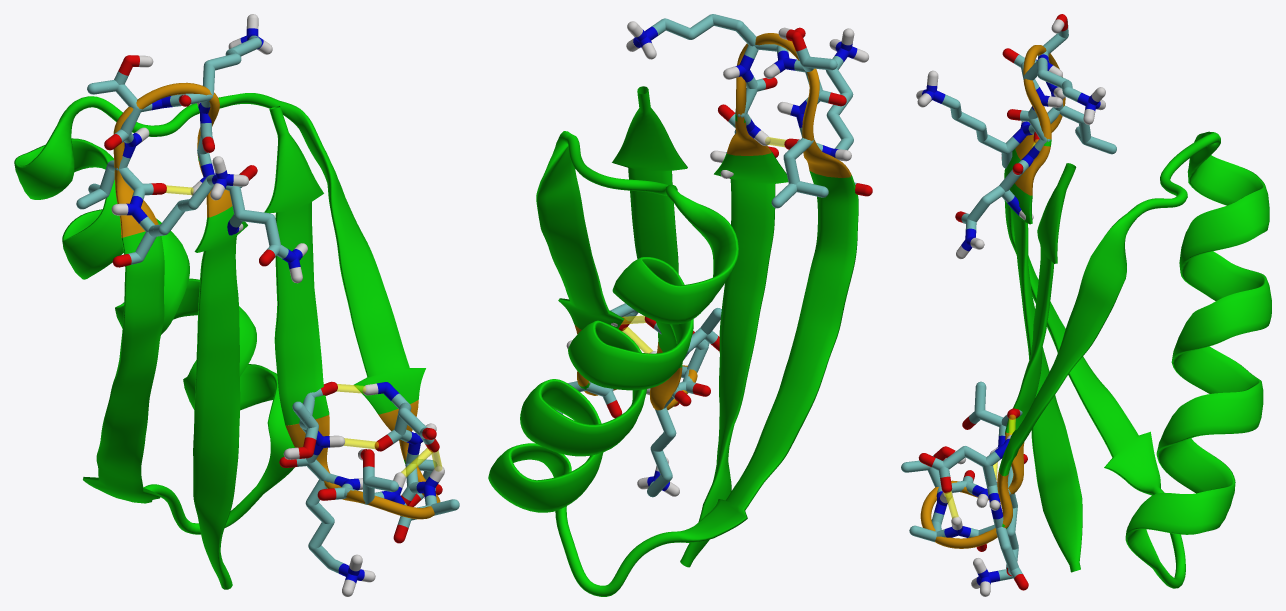
3 renders of one model, left to right at view 1: azimuth 30°, elevation 25°; view 2: azimuth 150°, elevation 25°; view 3: azimuth 270°, elevation 25°, orthographic. The views are drawn at different scales.
Visible parts, largest first — view 1: Object_2, Object_8; view 2: Object_2, Object_8; view 3: Object_2.
Boxes of the visible parts, left/top/right/bottom form: Object_2: left=14, top=14, right=459, bottom=596; Object_8: left=165, top=185, right=442, bottom=477; Object_2: left=488, top=14, right=872, bottom=596; Object_8: left=621, top=137, right=786, bottom=353; Object_2: left=901, top=14, right=1271, bottom=596.
Size of the model in its own units: 1.43 by 2.29 by 1.5.
2 materials, 2 textured.
